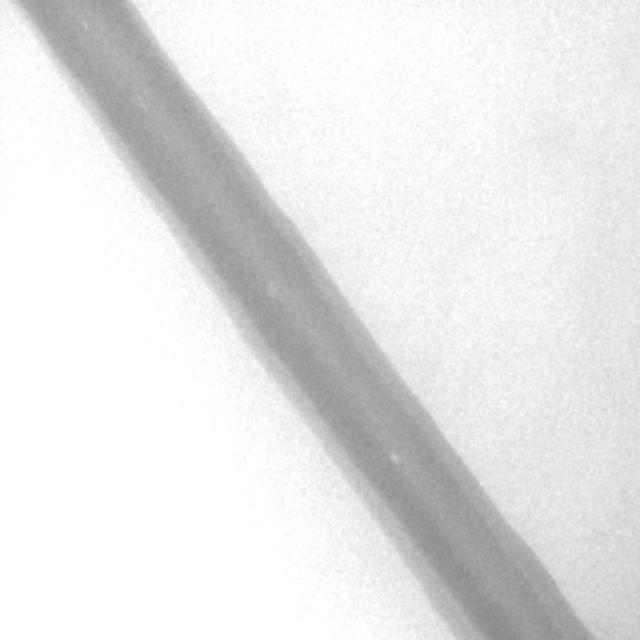air hole: (387, 451, 401, 467)
